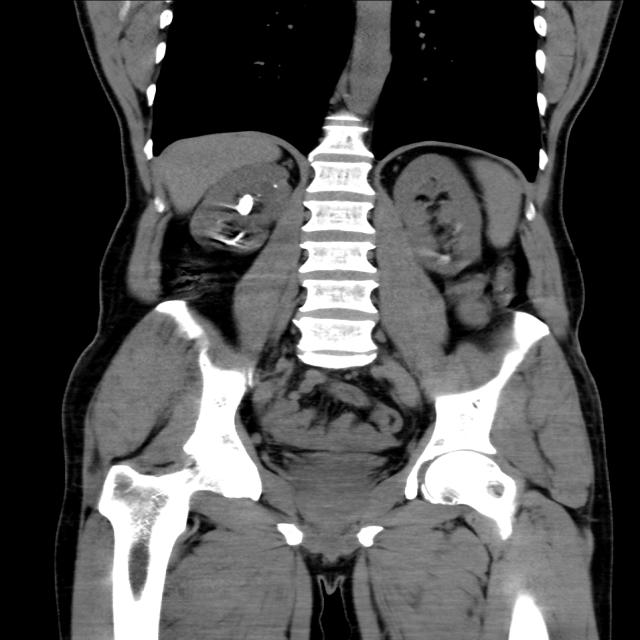kidneystone: (236, 194, 254, 215)
